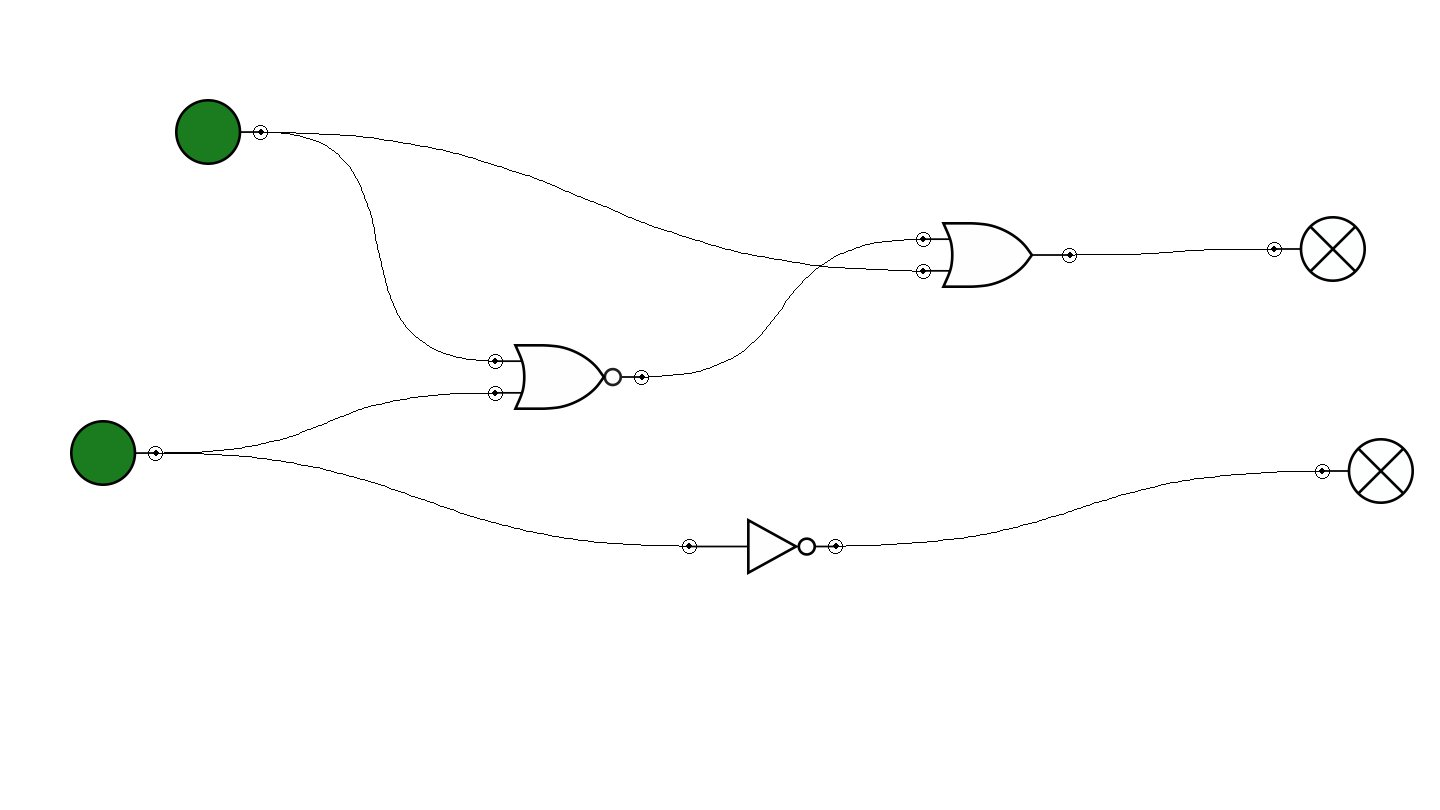bulb: (1267, 216, 1366, 282), (1315, 438, 1414, 504)
nor: (488, 344, 649, 410)
not: (682, 518, 843, 575)
or: (916, 222, 1077, 288)
switch_True: (175, 99, 268, 165), (70, 420, 163, 486)
